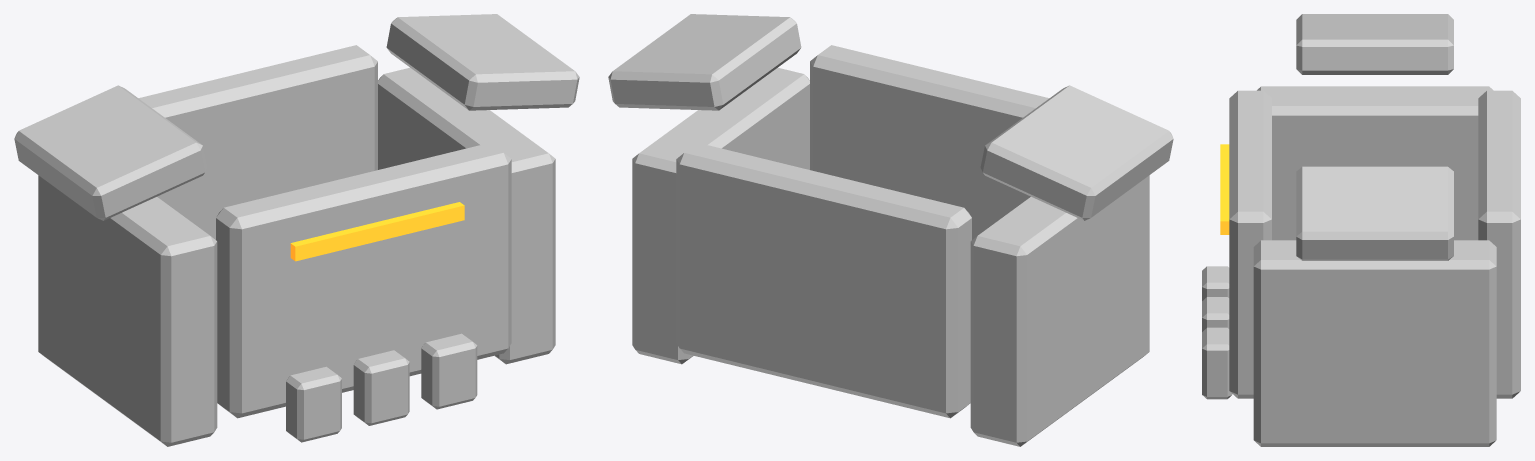
The model's file is gear.torso.gunner_vest.glb.
3 views of the same model, side by side, from view 1: azimuth 30°, elevation 25°; view 2: azimuth 150°, elevation 25°; view 3: azimuth 270°, elevation 25° (orthographic). The views are drawn at different scales.
Parts seen in each view (by area): view 1: spine@gunner_vest.base, spine@gunner_vest.emissive.orange; view 2: spine@gunner_vest.base; view 3: spine@gunner_vest.base, spine@gunner_vest.emissive.orange.
Boxes of the visible parts, x1=… form: spine@gunner_vest.base: x1=14, y1=14, x2=579, y2=446; spine@gunner_vest.emissive.orange: x1=290, y1=202, x2=464, y2=261; spine@gunner_vest.base: x1=608, y1=14, x2=1173, y2=446; spine@gunner_vest.base: x1=1202, y1=14, x2=1520, y2=446; spine@gunner_vest.emissive.orange: x1=1220, y1=144, x2=1229, y2=234.
Size of the model in its own units: 0.864 by 0.4673 by 0.525.
